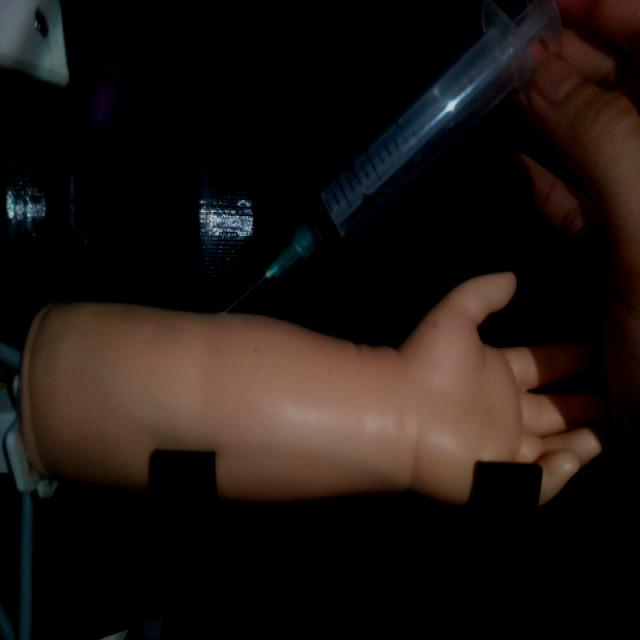Above 30 degrees: (217, 0, 564, 313)
